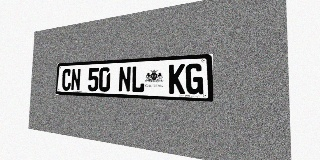0: (99, 67, 110, 92)
5: (88, 67, 99, 91)
C: (62, 69, 71, 91)
G: (186, 63, 203, 95)
K: (169, 64, 185, 94)
L: (131, 66, 145, 93)
N: (118, 66, 131, 92), (71, 68, 81, 91)
